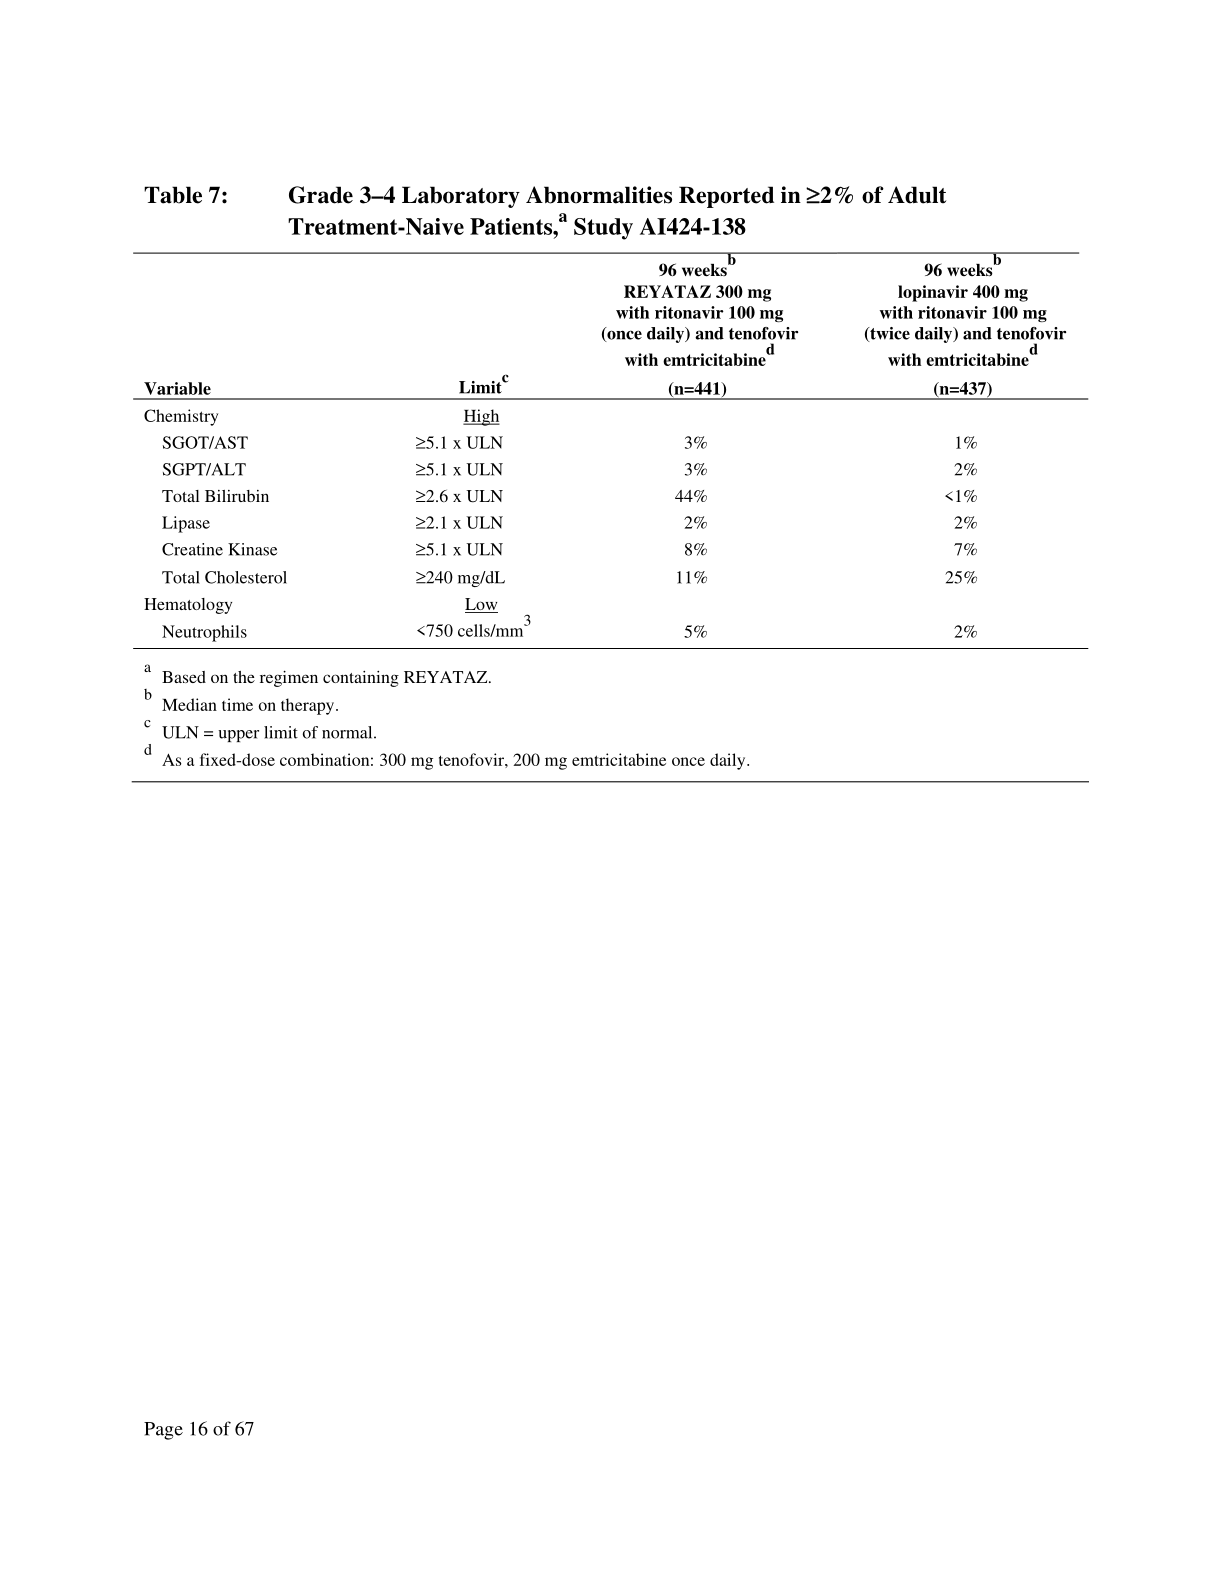partial_lined: (131, 249, 1093, 652)
